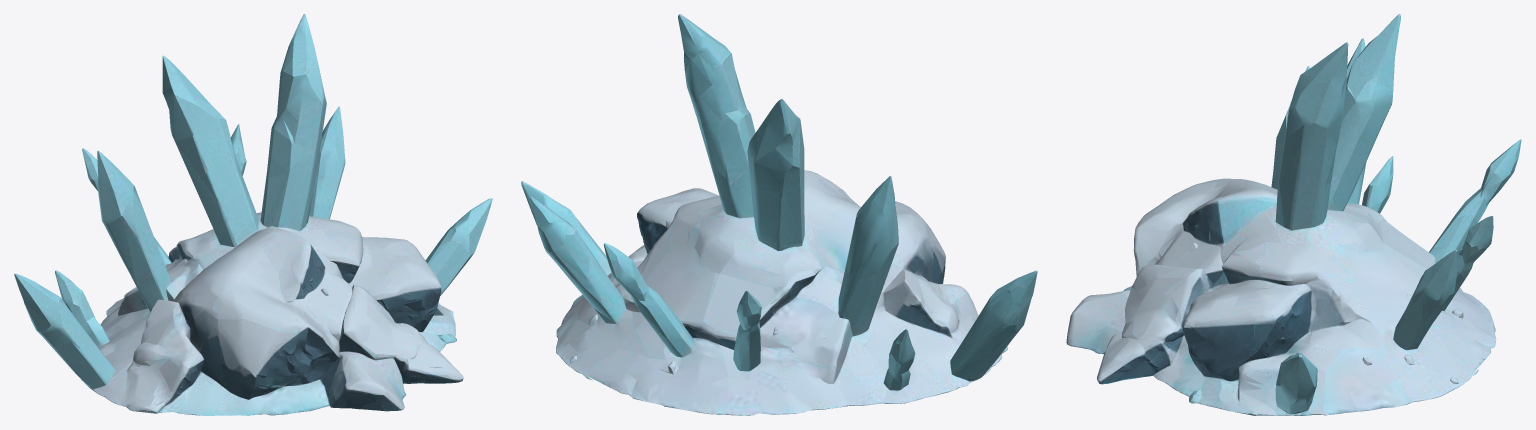
Rendered from crystal_vein.glb.
The picture shows the model from 3 angles, left to right: view 1: azimuth 30°, elevation 25°; view 2: azimuth 150°, elevation 25°; view 3: azimuth 270°, elevation 25°; orthographic projection. The views are drawn at different scales.
Size of the model in its own units: 1.9 by 1.13 by 1.46.
Materials: 1 (1 with a texture image).
